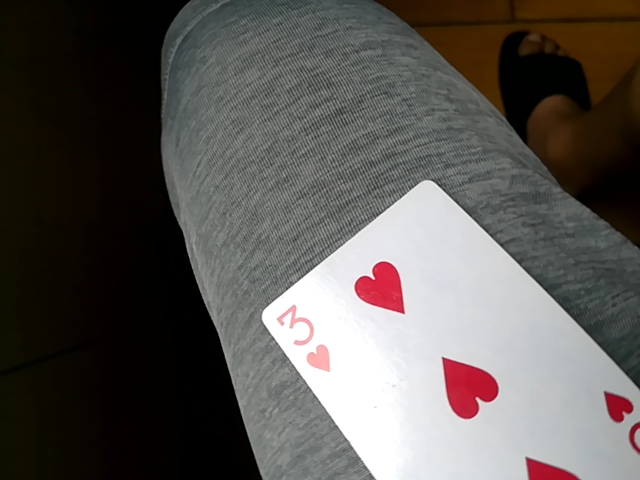hx 3: (250, 170, 635, 480)
